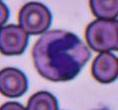N: (32, 30, 88, 82)
